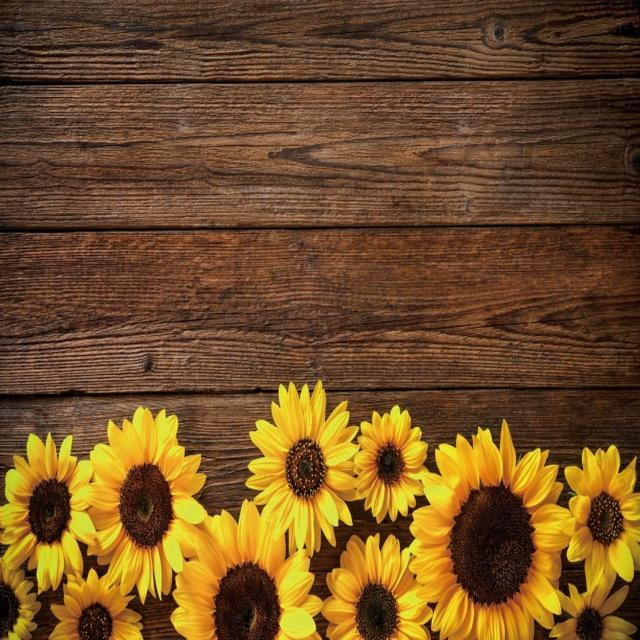sunflower: (408, 417, 569, 639), (82, 404, 208, 604), (170, 498, 323, 639), (245, 378, 360, 556), (530, 443, 640, 595), (0, 430, 97, 593), (322, 532, 432, 639), (352, 403, 428, 523), (48, 567, 144, 639), (549, 575, 637, 639), (0, 555, 40, 639)
